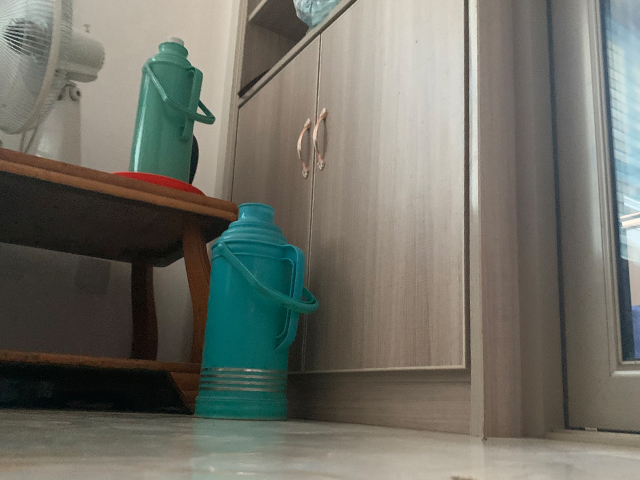cabinet: (220, 1, 526, 440)
table: (1, 148, 239, 415)
